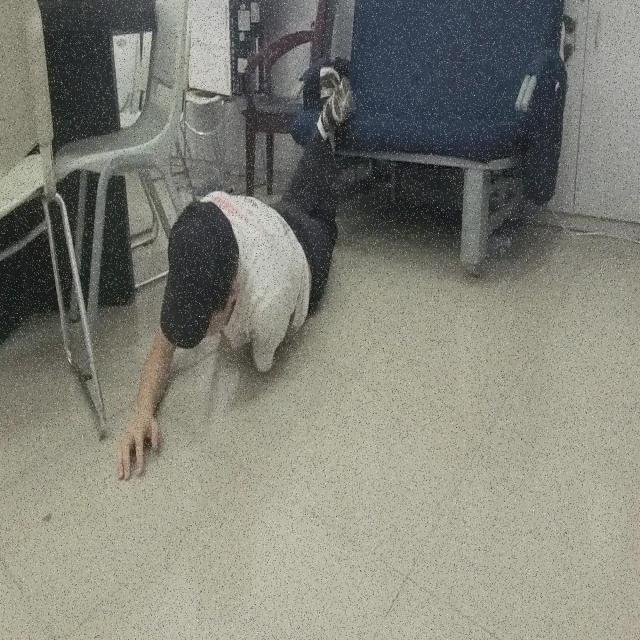fall: (116, 65, 355, 485)
